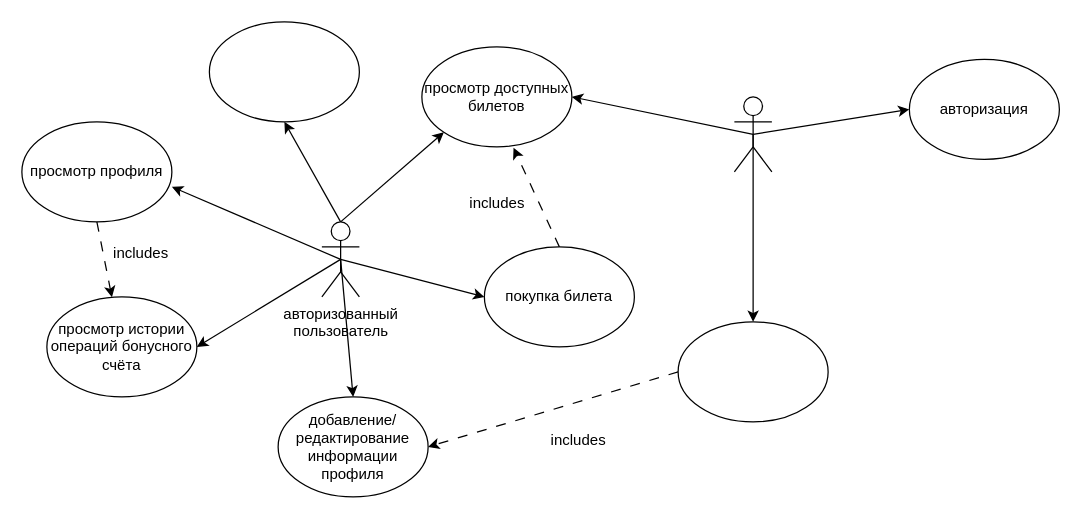
Some shapes in this 1081 by 519 pixel diagram are drawn without their labels. Each missing label, with the box of its shape:
возврат билета: (208, 21, 359, 122)
неавторизованный пользователь: (733, 96, 772, 172)
регистрация: (677, 321, 828, 422)
